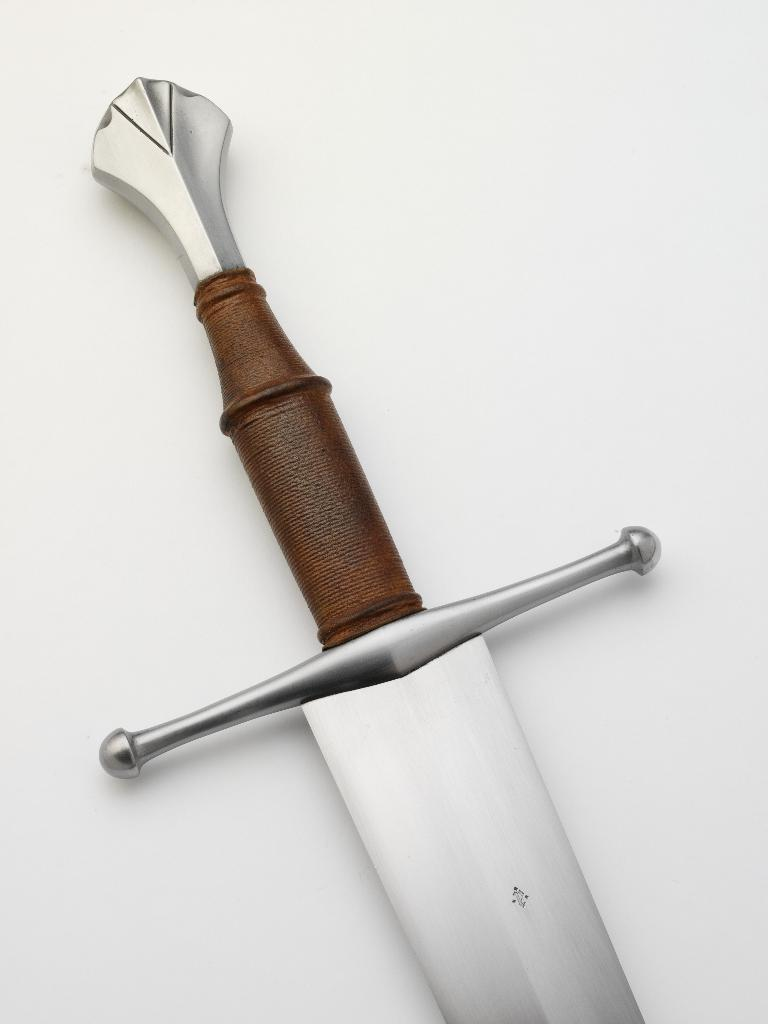Sword: (90, 76, 660, 1023)
